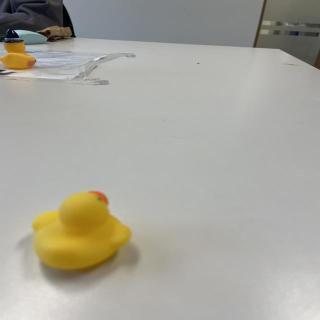duck_regular: (31, 190, 135, 273)
